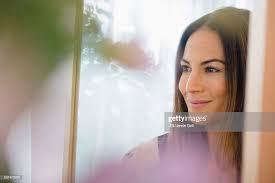white_female: (160, 35, 235, 132)
